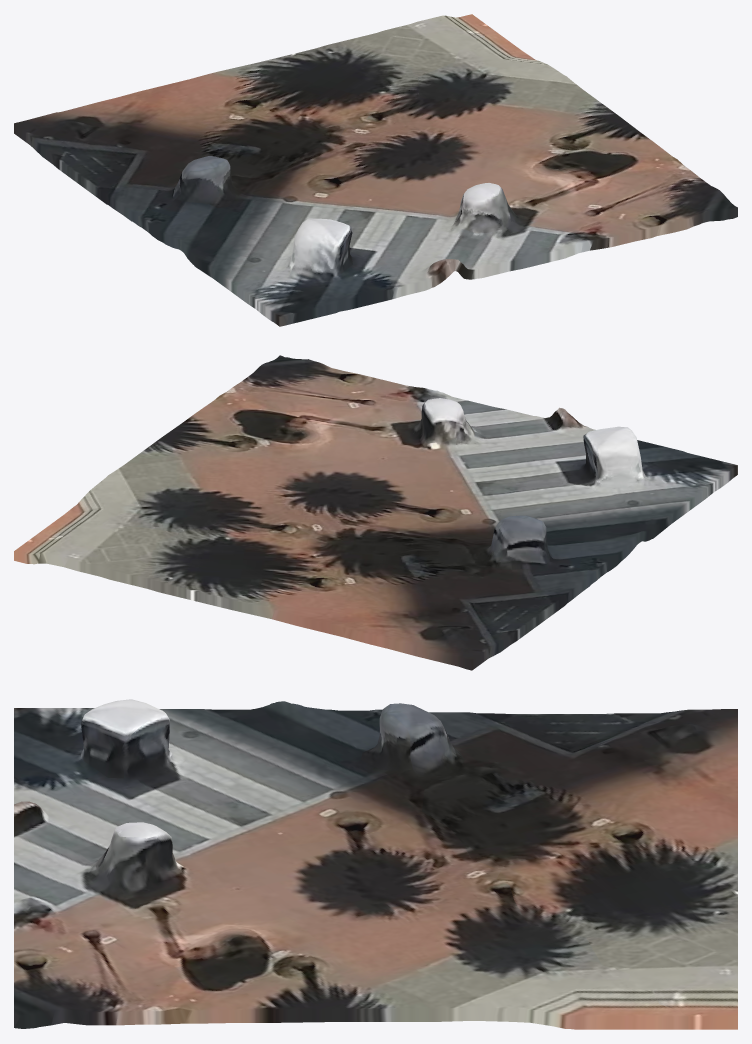
Rendered from z20-167787-405223-h0-yup-uvflip-v3-world.glb.
The picture shows the model from 3 angles, top to bottom: view 1: azimuth 30°, elevation 25°; view 2: azimuth 150°, elevation 25°; view 3: azimuth 270°, elevation 25°; orthographic projection. The views are drawn at different scales.
Bounding box in the file's own units: 30.16 × 3.52 × 30.32.
Materials: 1 (1 with a texture image).
